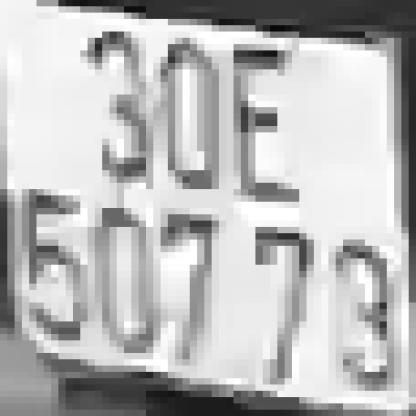3: (80, 31, 154, 183)
5: (22, 189, 95, 334)
7: (233, 227, 314, 372)
E: (226, 50, 299, 202)
